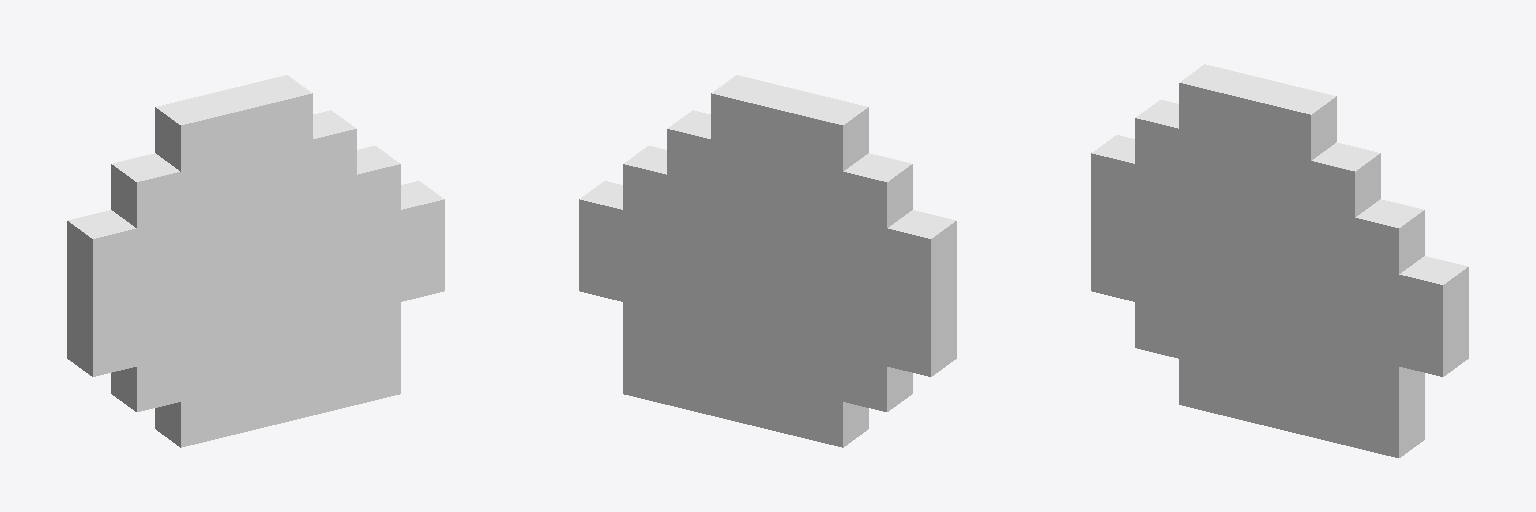
File: mouse_ear.obj
The picture shows the model from 3 angles: view 1: azimuth 30°, elevation 25°; view 2: azimuth 150°, elevation 25°; view 3: azimuth 330°, elevation 25°; orthographic projection.
Bounding box in the file's own units: 8 × 7 × 1.